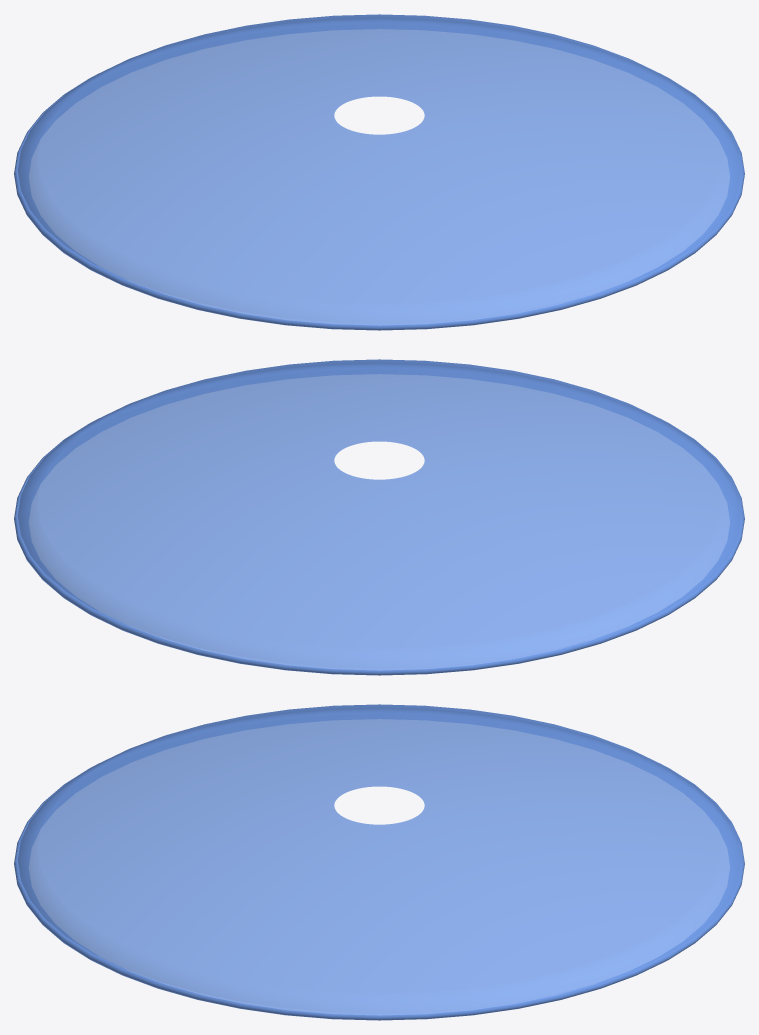
The model's file is original-7-new.obj.
The picture shows the model from 3 angles, top to bottom: view 1: azimuth 30°, elevation 25°; view 2: azimuth 150°, elevation 25°; view 3: azimuth 270°, elevation 25°; orthographic projection.
Visible parts, largest first — view 1: mesh3/mesh3-geometry/material_0#mesh3-geometry; view 2: mesh3/mesh3-geometry/material_0#mesh3-geometry; view 3: mesh3/mesh3-geometry/material_0#mesh3-geometry.
Boxes of the visible parts, <box> form: mesh3/mesh3-geometry/material_0#mesh3-geometry: <box>14,14,744,330</box>; mesh3/mesh3-geometry/material_0#mesh3-geometry: <box>14,359,744,675</box>; mesh3/mesh3-geometry/material_0#mesh3-geometry: <box>14,704,744,1020</box>.
Size of the model in its own units: 1.02 by 0.0949 by 1.02.
